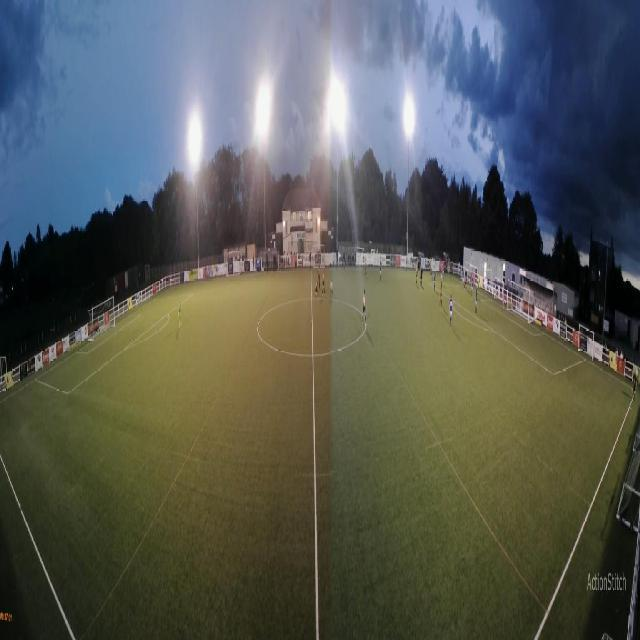player: (362, 289, 367, 328), (449, 294, 453, 328), (178, 299, 182, 329), (322, 269, 326, 298), (439, 280, 443, 307), (330, 268, 333, 300), (464, 270, 468, 290), (315, 280, 319, 297), (379, 260, 382, 281), (420, 266, 423, 286), (318, 263, 320, 290), (430, 260, 433, 278), (475, 288, 477, 314), (416, 264, 418, 286), (434, 270, 436, 291), (471, 276, 473, 297), (502, 291, 504, 312), (365, 257, 367, 277), (463, 270, 465, 289), (441, 266, 443, 284), (442, 262, 444, 280), (420, 263, 421, 279)
